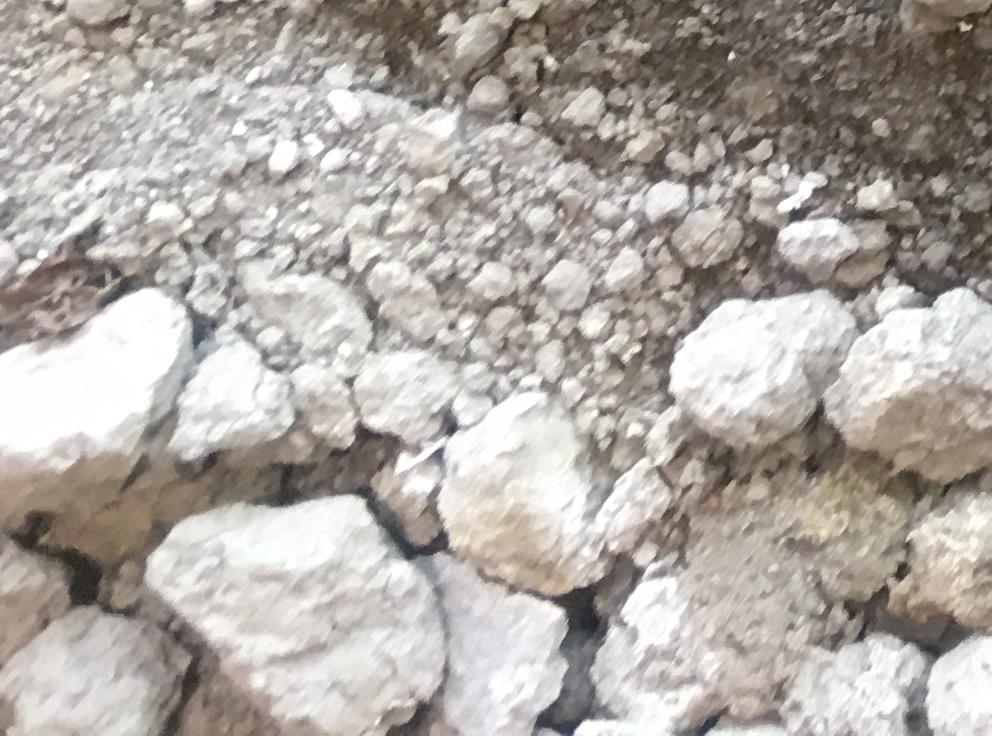block: (153, 504, 440, 735), (431, 368, 612, 592), (2, 285, 177, 490), (820, 294, 992, 488), (669, 298, 849, 447), (3, 603, 173, 736)
